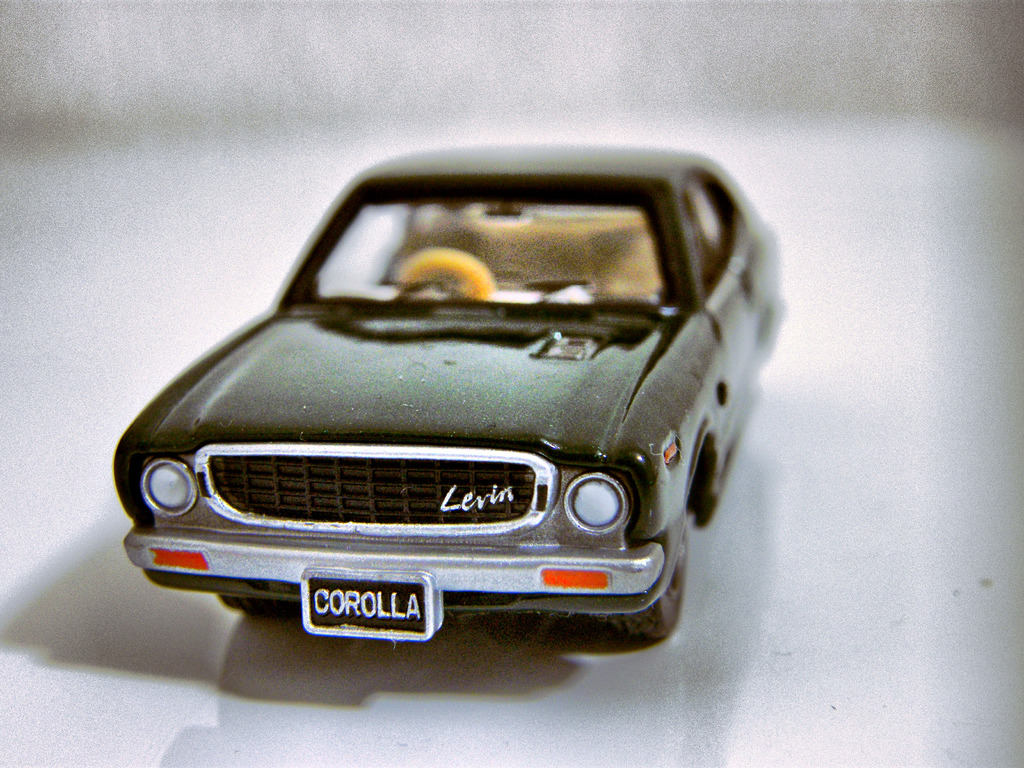mobil: (92, 128, 819, 655)
